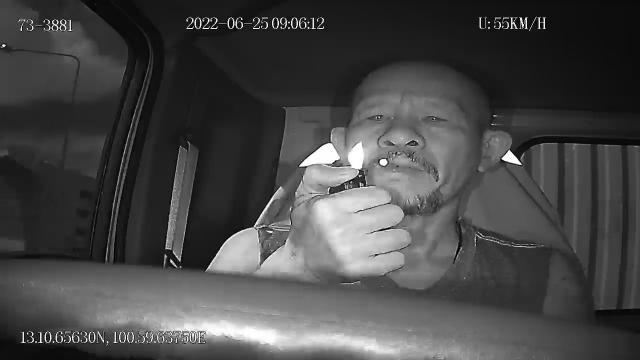SafeDriving: (414, 102, 458, 134), (359, 103, 396, 130)
Smoking: (377, 156, 398, 170)
